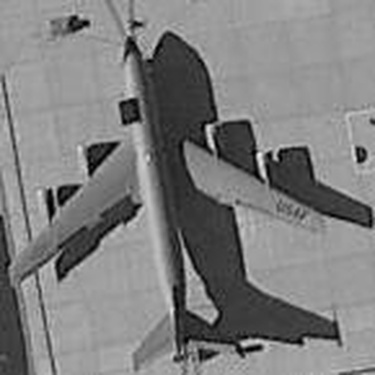airplane: (8, 19, 334, 370)
